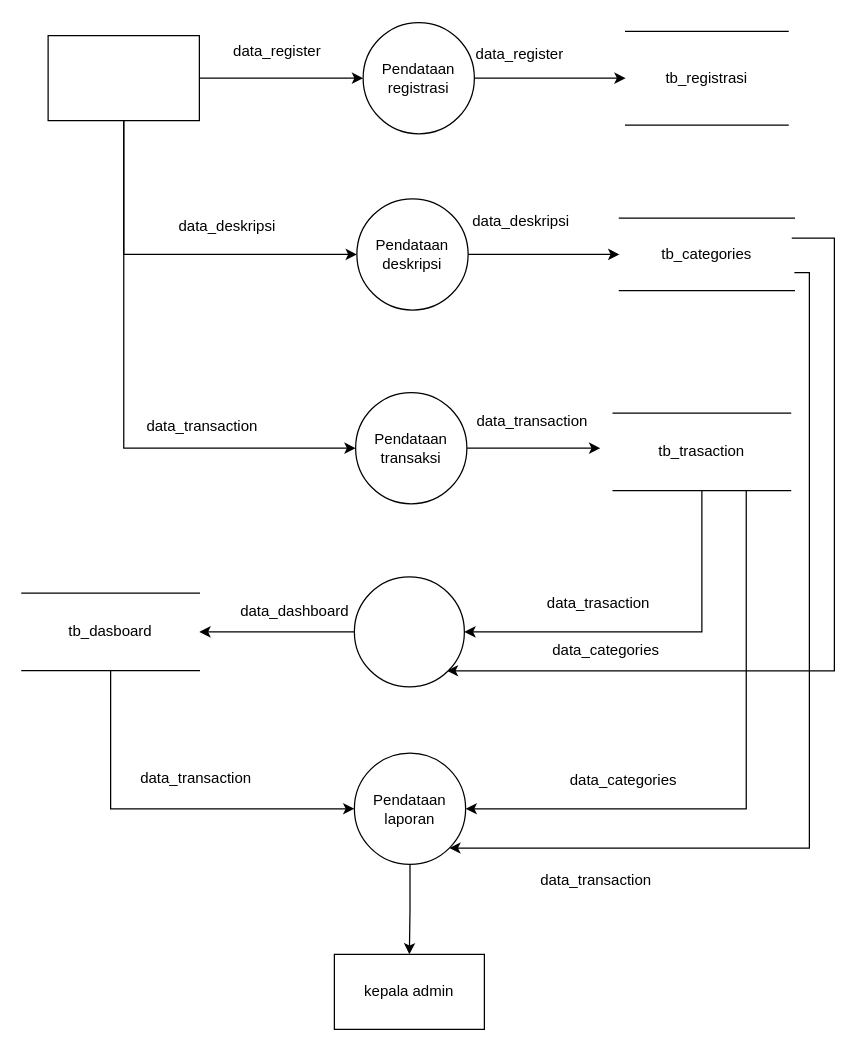
Some shapes in this 866 by 1051 pixel diagram are drawn without their labels. The box of each missing label's shape, as (x1, y1, x2, y2) in pixels:
Pendataan dasboard: (353, 576, 464, 687)
pengguna: (47, 34, 199, 121)
